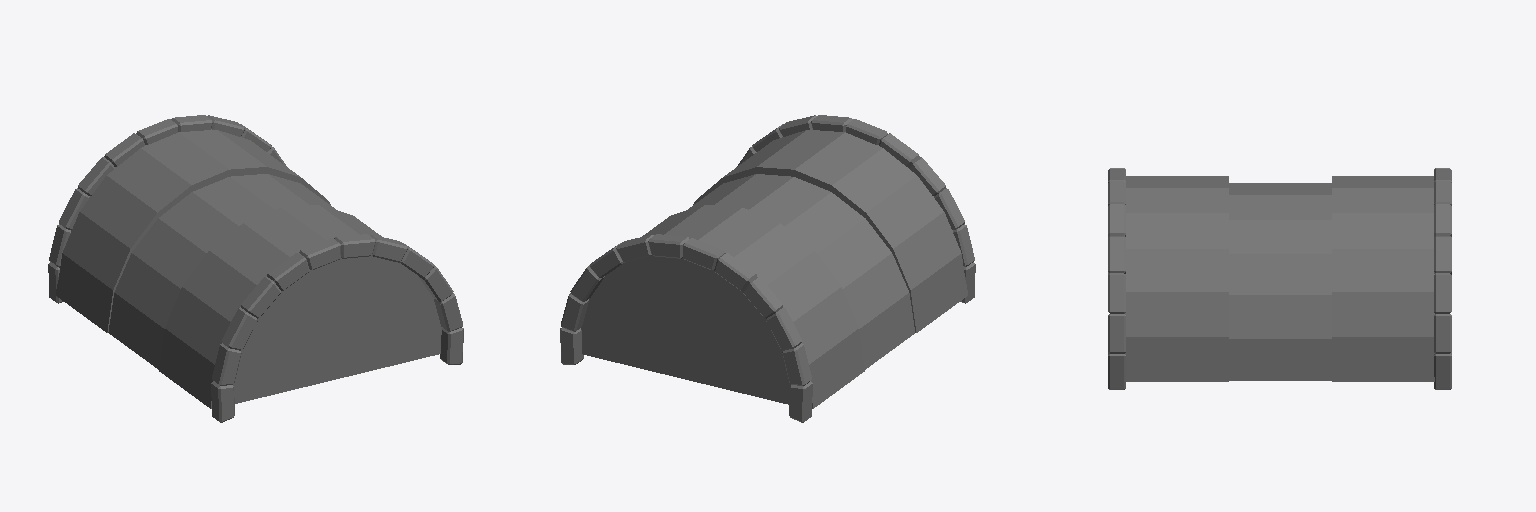
Rendered from Tunnerl.obj.
3 views of the same model, side by side, from view 1: azimuth 30°, elevation 25°; view 2: azimuth 150°, elevation 25°; view 3: azimuth 270°, elevation 25° (orthographic).
Parts seen in each view (by area): view 1: pCylinder4_pCylinder4; view 2: pCylinder4_pCylinder4; view 3: pCylinder4_pCylinder4.
Part boxes in pixels (bbox=[...]): pCylinder4_pCylinder4: bbox=[48, 115, 463, 422]; pCylinder4_pCylinder4: bbox=[560, 115, 975, 422]; pCylinder4_pCylinder4: bbox=[1108, 168, 1451, 389].
Size of the model in its own units: 47.79 by 28.11 by 57.96.